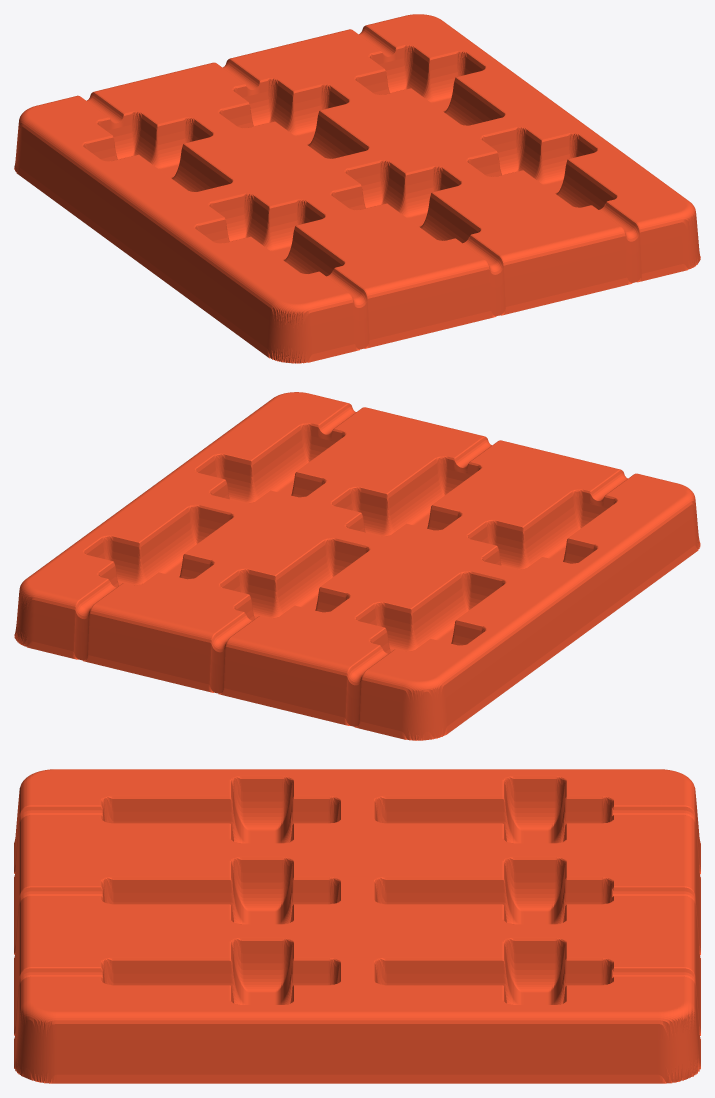
Rendered from mold.glb.
3 views of the same model, one above another, from view 1: azimuth 30°, elevation 25°; view 2: azimuth 150°, elevation 25°; view 3: azimuth 270°, elevation 25° (orthographic). The views are drawn at different scales.
Parts seen in each view (by area): view 1: geometry_0; view 2: geometry_0; view 3: geometry_0.
Boxes of the visible parts, <box> form: geometry_0: <box>14,14,700,363</box>; geometry_0: <box>14,392,700,740</box>; geometry_0: <box>14,769,700,1083</box>.
Size of the model in its own units: 0.1299 by 0.0155 by 0.1477.
